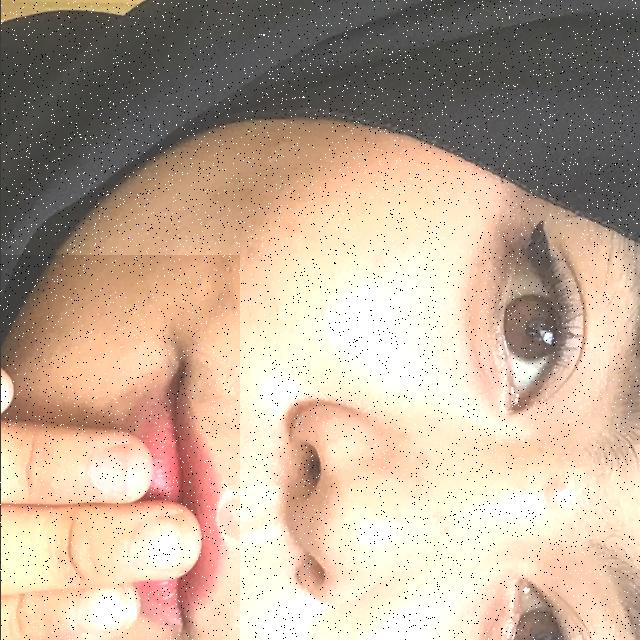ganteng: (0, 255, 239, 640)
